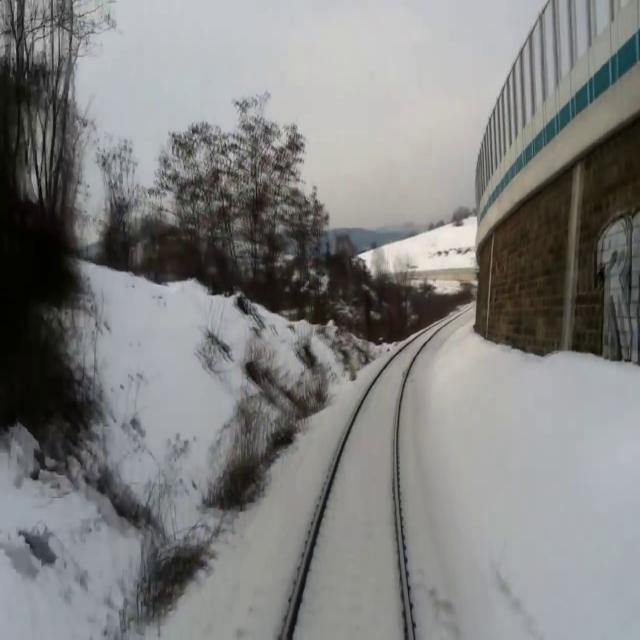rail-track: (287, 319, 446, 639)
